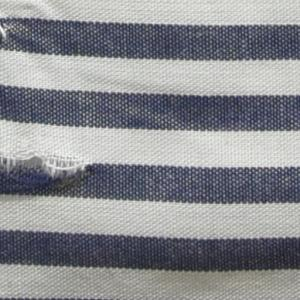Damage: (1, 146, 107, 202), (1, 11, 40, 55)
Wrinkle: (179, 239, 300, 280)
